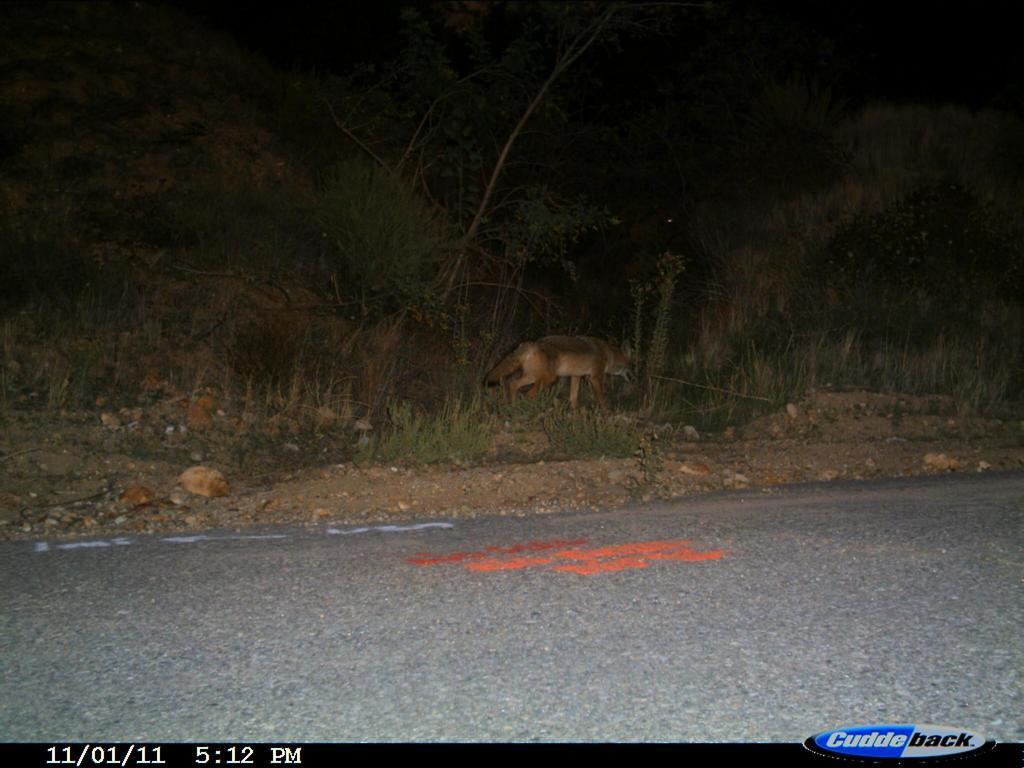coyote: (482, 324, 648, 422)
